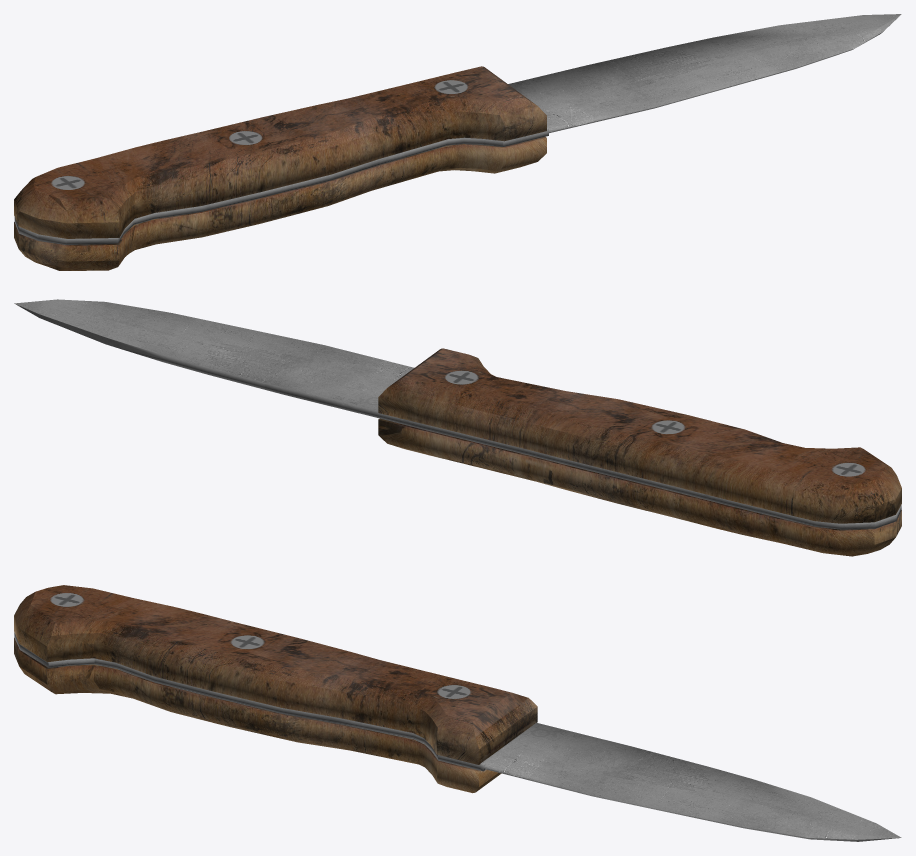
The model's file is Knife v1.1glb.glb.
3 renders of one model, top to bottom at view 1: azimuth 30°, elevation 25°; view 2: azimuth 150°, elevation 25°; view 3: azimuth 330°, elevation 25°, orthographic.
Visible parts, largest first — view 1: Low_Bottom, Low_Knife; view 2: Low_Bottom, Low_Knife; view 3: Low_Bottom, Low_Knife.
Boxes of the visible parts, box(x1,y1,x2,y2) form: Low_Bottom: box(14, 66, 546, 270); Low_Knife: box(14, 14, 901, 244); Low_Bottom: box(378, 348, 901, 556); Low_Knife: box(14, 299, 901, 529); Low_Bottom: box(14, 585, 537, 793); Low_Knife: box(14, 632, 901, 841).
Bounding box in the file's own units: 0.3096 × 0.0242 × 0.0386.
Materials: 1 (1 with a texture image).
